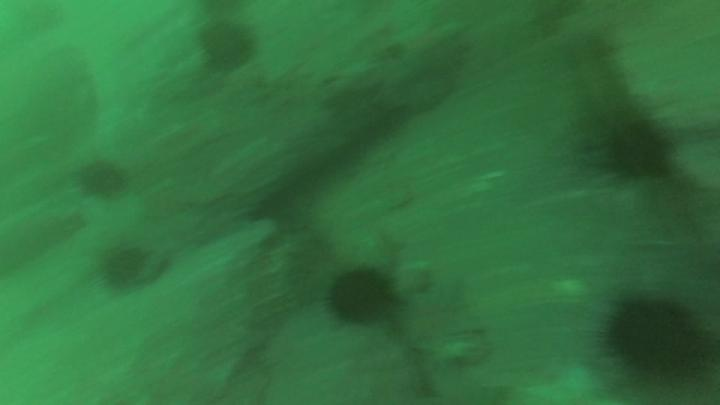echinus: (585, 281, 720, 397), (580, 104, 686, 193), (316, 259, 416, 339), (84, 234, 158, 295), (68, 150, 136, 207), (192, 18, 256, 74)
